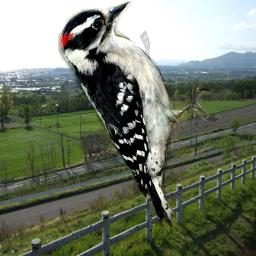Woodpecker: (58, 1, 222, 227)
